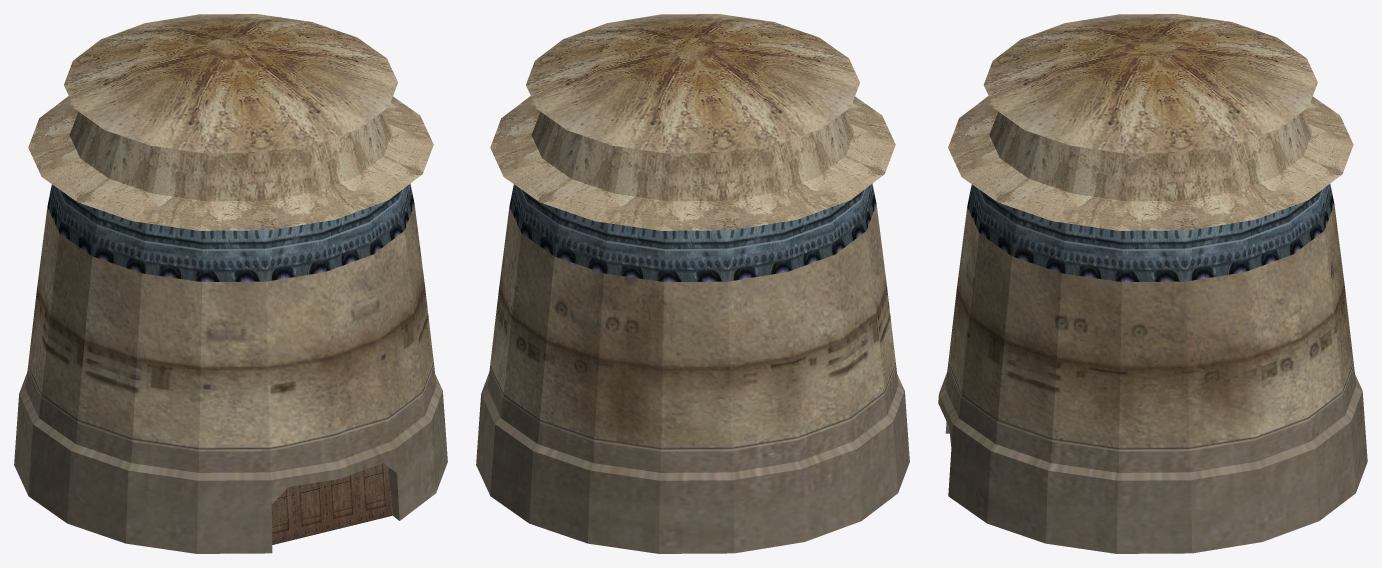
Rendered from eaw_huttTower.glb.
3 renders of one model, left to right at view 1: azimuth 30°, elevation 25°; view 2: azimuth 150°, elevation 25°; view 3: azimuth 270°, elevation 25°, orthographic.
Visible parts, largest first — view 1: HuttPalace_ALT0_0; view 2: HuttPalace_ALT0_0; view 3: HuttPalace_ALT0_0.
Boxes of the visible parts, x1=… form: HuttPalace_ALT0_0: x1=14, y1=14, x2=447, y2=553; HuttPalace_ALT0_0: x1=476, y1=14, x2=909, y2=553; HuttPalace_ALT0_0: x1=938, y1=14, x2=1367, y2=553.
Size of the model in its own units: 19.48 by 20.81 by 19.52.
Materials: 1 (1 with a texture image).
